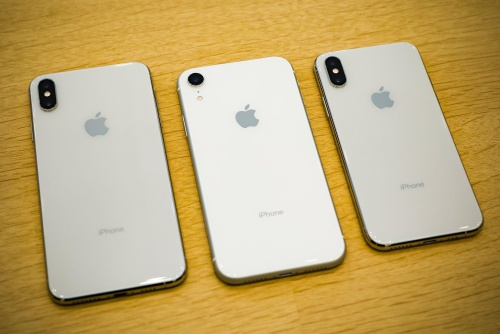apple: (72, 109, 127, 146), (365, 79, 400, 119), (232, 103, 264, 132)
